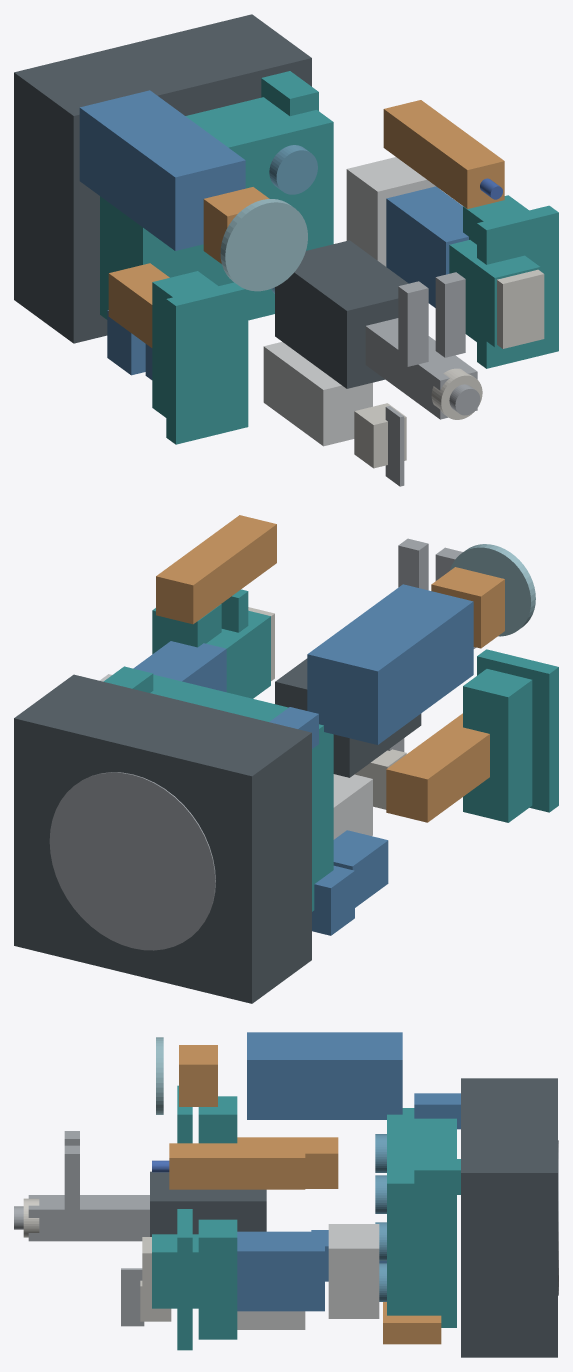
Rendered from dranmar_tumor_resection_tool_seal.glb.
3 renders of one model, top to bottom at view 1: azimuth 30°, elevation 25°; view 2: azimuth 150°, elevation 25°; view 3: azimuth 270°, elevation 25°, orthographic. The views are drawn at different scales.
Visible parts, largest first — view 1: Mount_MountBody, BagDeployer_BagDeployerBody, SensorTurret_SensorTurretBody, AspiratorCarriage_AspiratorCarriageBody, LeftTraction_LeftPad, MarginMarker_MarginMarkerBody, ScissorCarriage_ScissorCarriageBody, RightTraction_RightPad, UltrasoundPitch_UltrasoundPitchBody, BagDeployer_BagRing, UltrasoundCarriage_UltrasoundCarriageBody, AspiratorRotor_AspiratorRotorBody (+15 smaller); view 2: Mount_MountBody, Mount_MountRing, BagDeployer_BagDeployerBody, LeftTraction_LeftTractionBody, MarginMarker_MarginMarkerBody, RamanProbe_RamanProbeBody, SensorTurret_SensorTurretBody, LeftTraction_LeftPad, UltrasoundCompliance_UltrasoundComplianceBody, BagDeployer_BagRing, AspiratorCarriage_AspiratorCarriageBody, BagClosure_BagClosureBody (+10 smaller); view 3: Mount_MountBody, BagDeployer_BagDeployerBody, SensorTurret_SensorTurretBody, UltrasoundPitch_UltrasoundPitchBody, MarginMarker_MarginMarkerBody, AspiratorRotor_AspiratorRotorBody, UltrasoundCarriage_UltrasoundCarriageBody, RightTraction_RightTractionBody, AspiratorCarriage_AspiratorCarriageBody, UltrasoundCompliance_UltrasoundComplianceBody, BagClosure_BagClosureBody, RightTraction_RightPad (+15 smaller).
Boxes of the visible parts, x1,y1,x2,y2 form: Mount_MountBody: [14, 14, 311, 343]; BagDeployer_BagDeployerBody: [79, 90, 245, 250]; SensorTurret_SensorTurretBody: [100, 97, 333, 320]; AspiratorCarriage_AspiratorCarriageBody: [275, 240, 408, 388]; LeftTraction_LeftPad: [166, 282, 248, 444]; MarginMarker_MarginMarkerBody: [383, 100, 504, 208]; ScissorCarriage_ScissorCarriageBody: [263, 342, 372, 446]; RightTraction_RightPad: [477, 205, 558, 368]; UltrasoundPitch_UltrasoundPitchBody: [386, 186, 468, 307]; BagDeployer_BagRing: [220, 199, 307, 291]; UltrasoundCarriage_UltrasoundCarriageBody: [346, 157, 439, 266]; AspiratorRotor_AspiratorRotorBody: [365, 318, 477, 419]; Mount_MountBody: [14, 674, 311, 1003]; Mount_MountRing: [49, 772, 215, 950]; BagDeployer_BagDeployerBody: [307, 584, 473, 744]; LeftTraction_LeftTractionBody: [463, 669, 532, 822]; MarginMarker_MarginMarkerBody: [156, 515, 276, 624]; RamanProbe_RamanProbeBody: [386, 713, 489, 822]; SensorTurret_SensorTurretBody: [150, 674, 333, 911]; LeftTraction_LeftPad: [477, 649, 558, 812]; UltrasoundCompliance_UltrasoundComplianceBody: [206, 610, 270, 698]; BagDeployer_BagRing: [450, 544, 535, 636]; AspiratorCarriage_AspiratorCarriageBody: [275, 658, 421, 777]; BagClosure_BagClosureBody: [431, 567, 504, 648]; Mount_MountBody: [461, 1078, 557, 1357]; BagDeployer_BagDeployerBody: [247, 1032, 402, 1119]; SensorTurret_SensorTurretBody: [387, 1108, 456, 1327]; UltrasoundPitch_UltrasoundPitchBody: [237, 1231, 324, 1311]; MarginMarker_MarginMarkerBody: [169, 1143, 305, 1189]; AspiratorRotor_AspiratorRotorBody: [28, 1195, 149, 1241]; UltrasoundCarriage_UltrasoundCarriageBody: [328, 1224, 379, 1318]; RightTraction_RightTractionBody: [198, 1219, 237, 1339]; AspiratorCarriage_AspiratorCarriageBody: [150, 1171, 266, 1236]; UltrasoundCompliance_UltrasoundComplianceBody: [152, 1234, 198, 1308]; BagClosure_BagClosureBody: [179, 1045, 217, 1106]; RightTraction_RightPad: [177, 1209, 192, 1350].
Bounding box in the file's own units: 0.185 × 0.136 × 0.2805.
